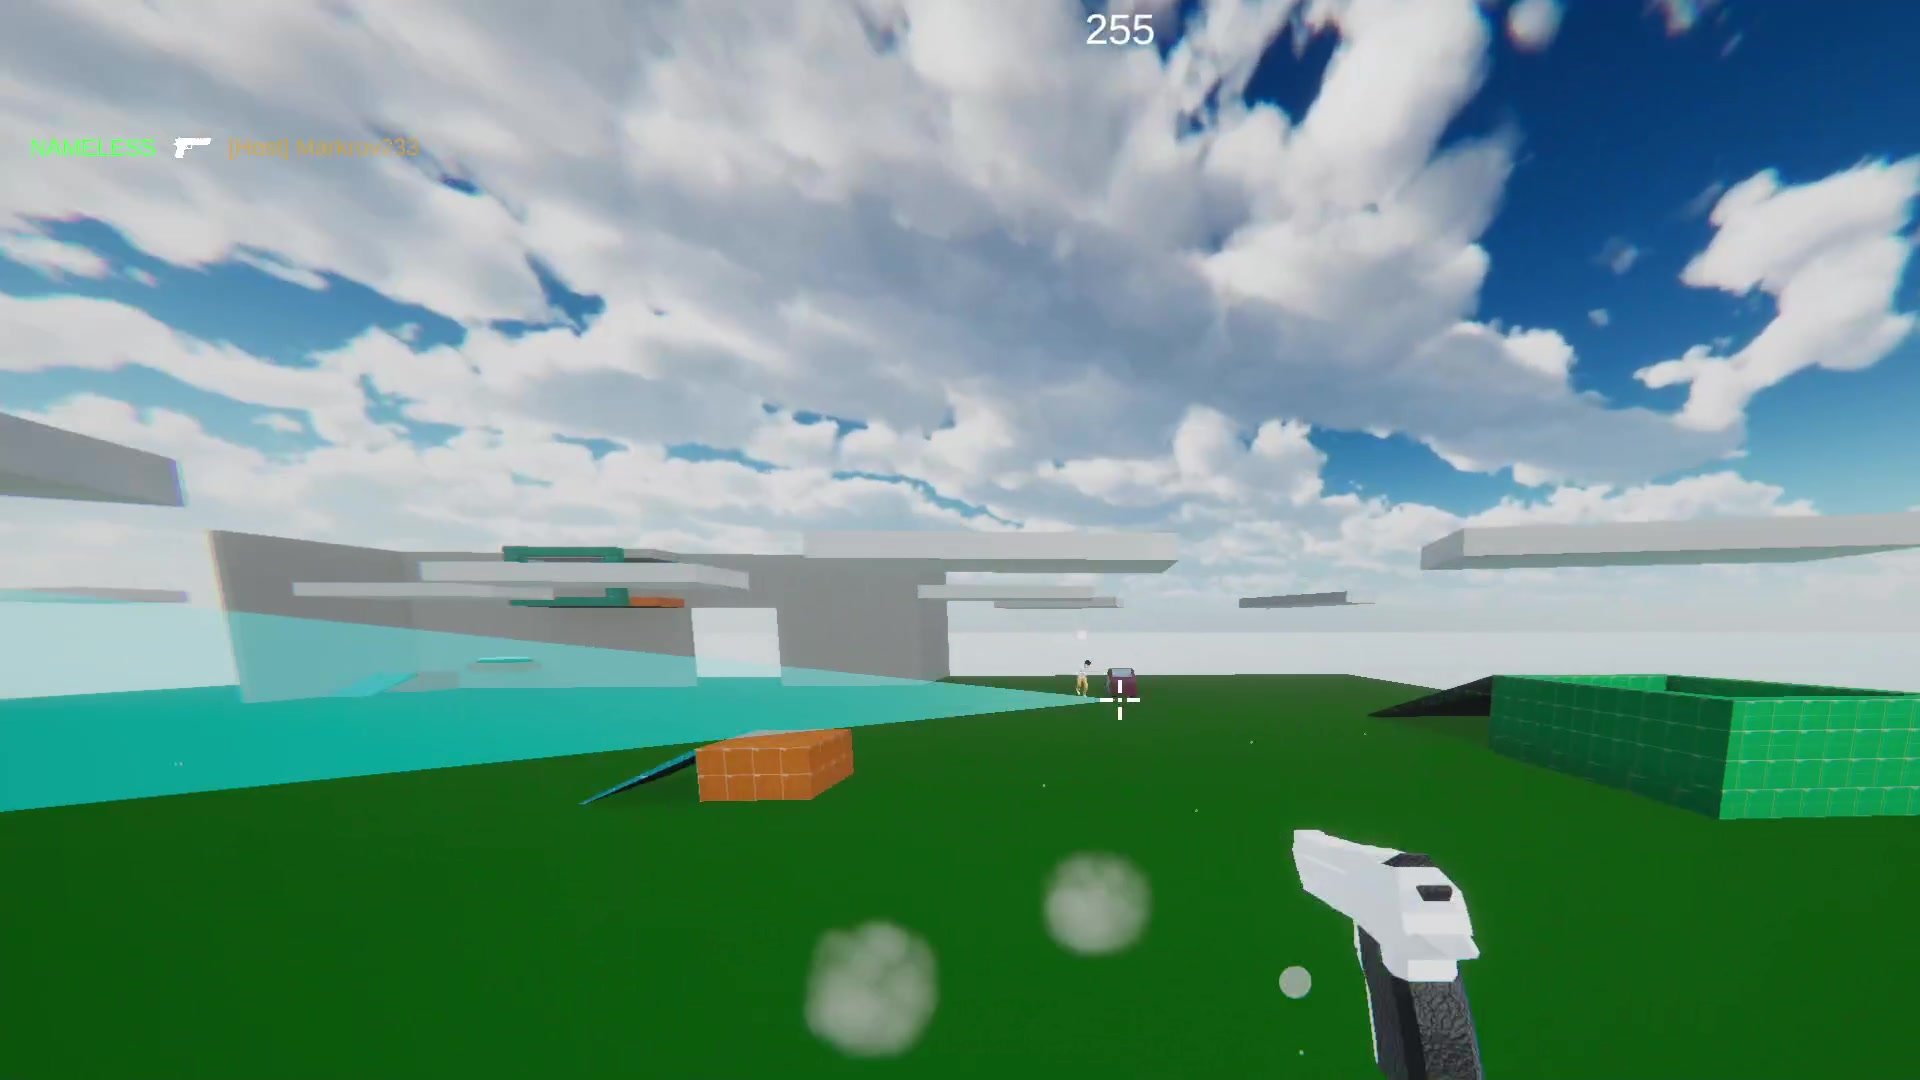human: (1073, 653, 1094, 699)
